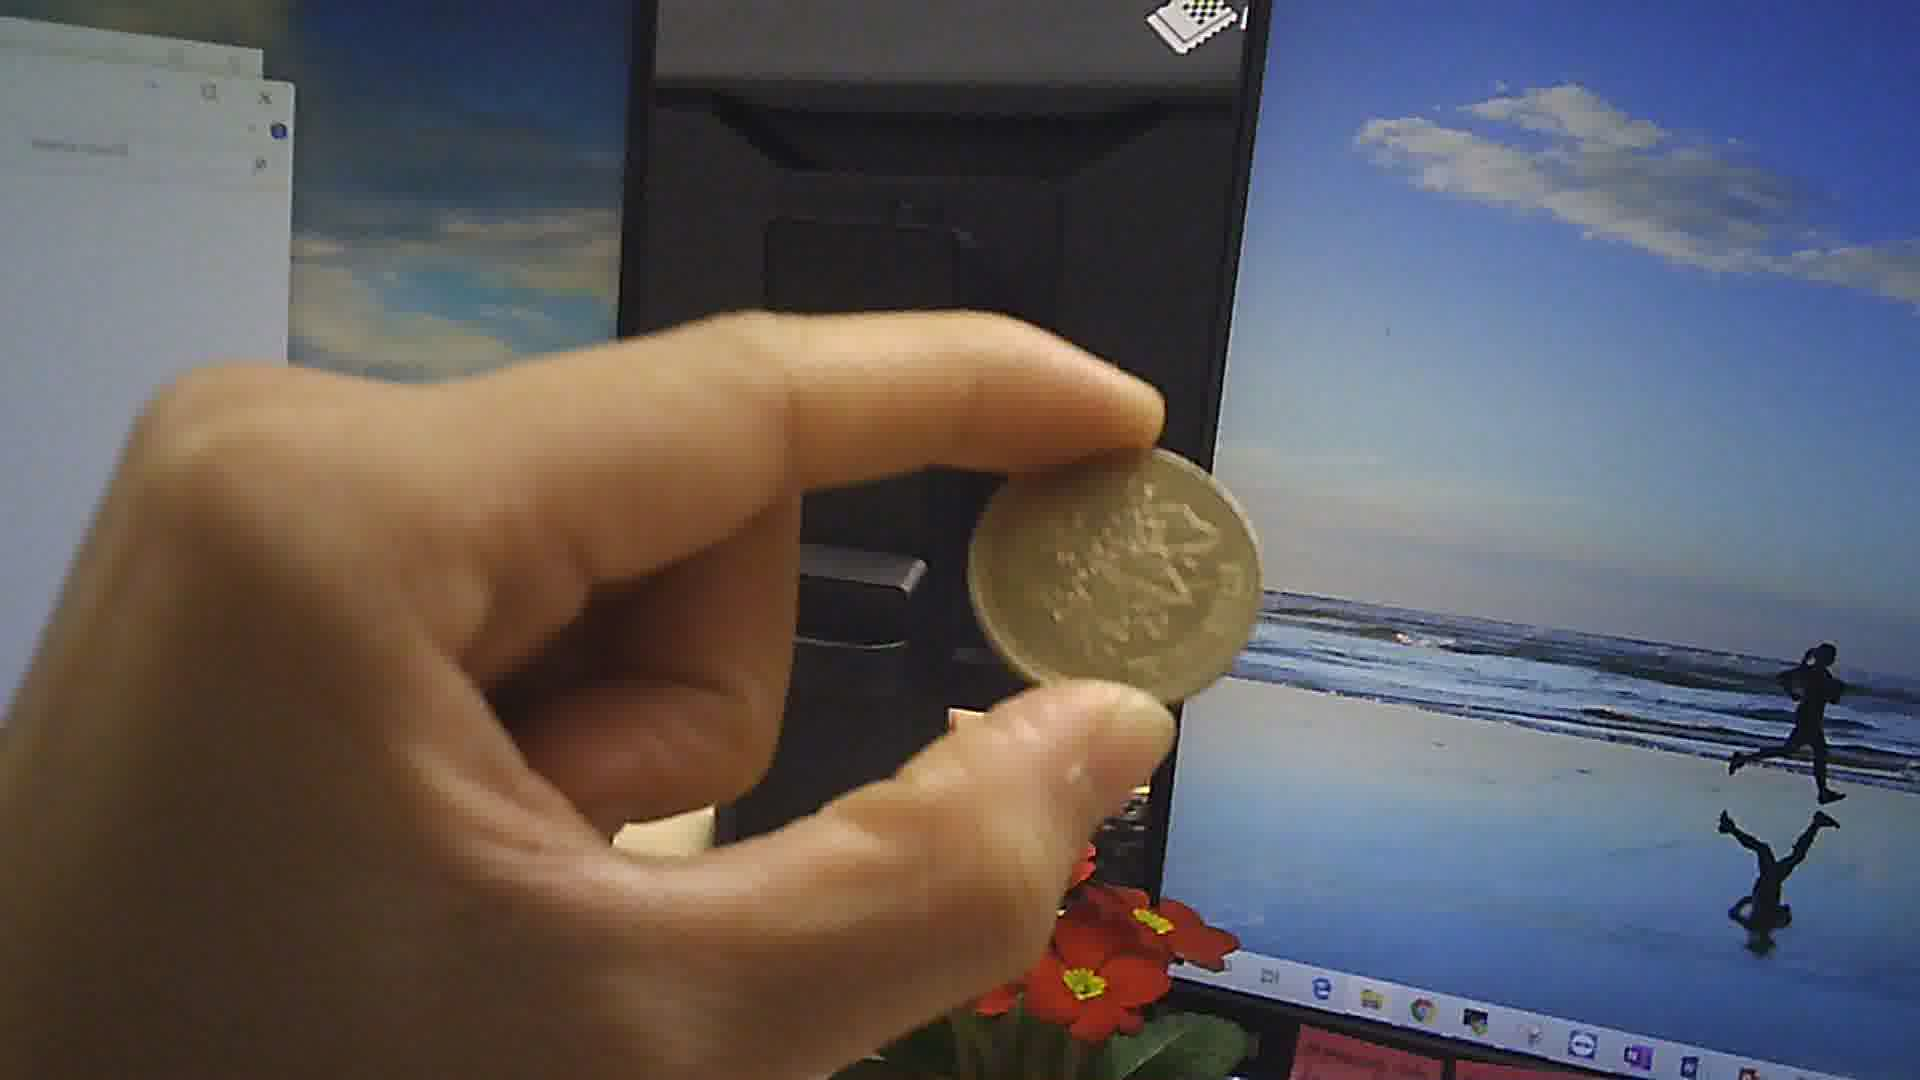500 Yen: (969, 423, 1265, 702)
